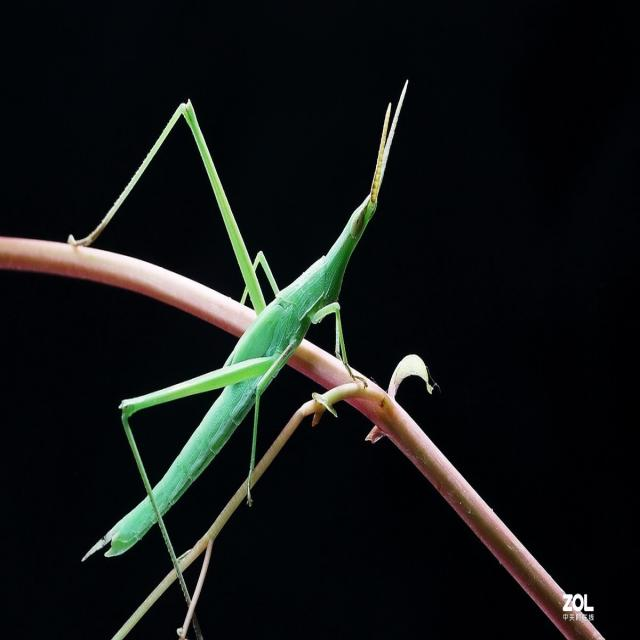ZhaMeng: (65, 64, 424, 568)
